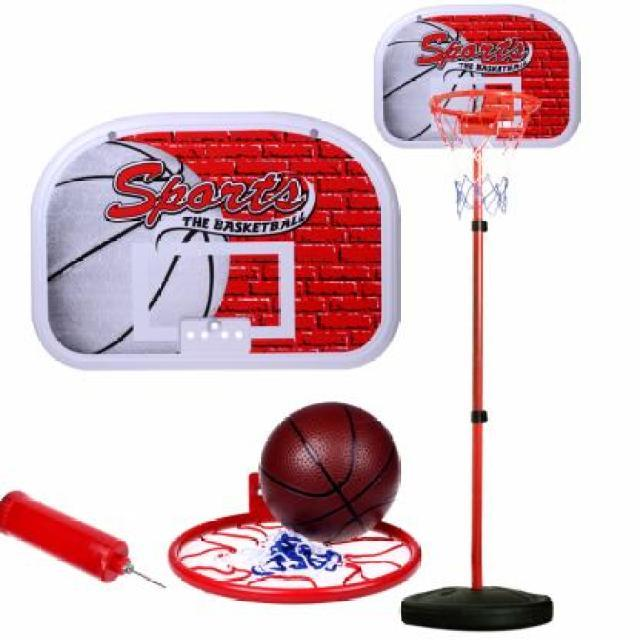basketball: (258, 401, 402, 544)
rim: (427, 91, 541, 217)
